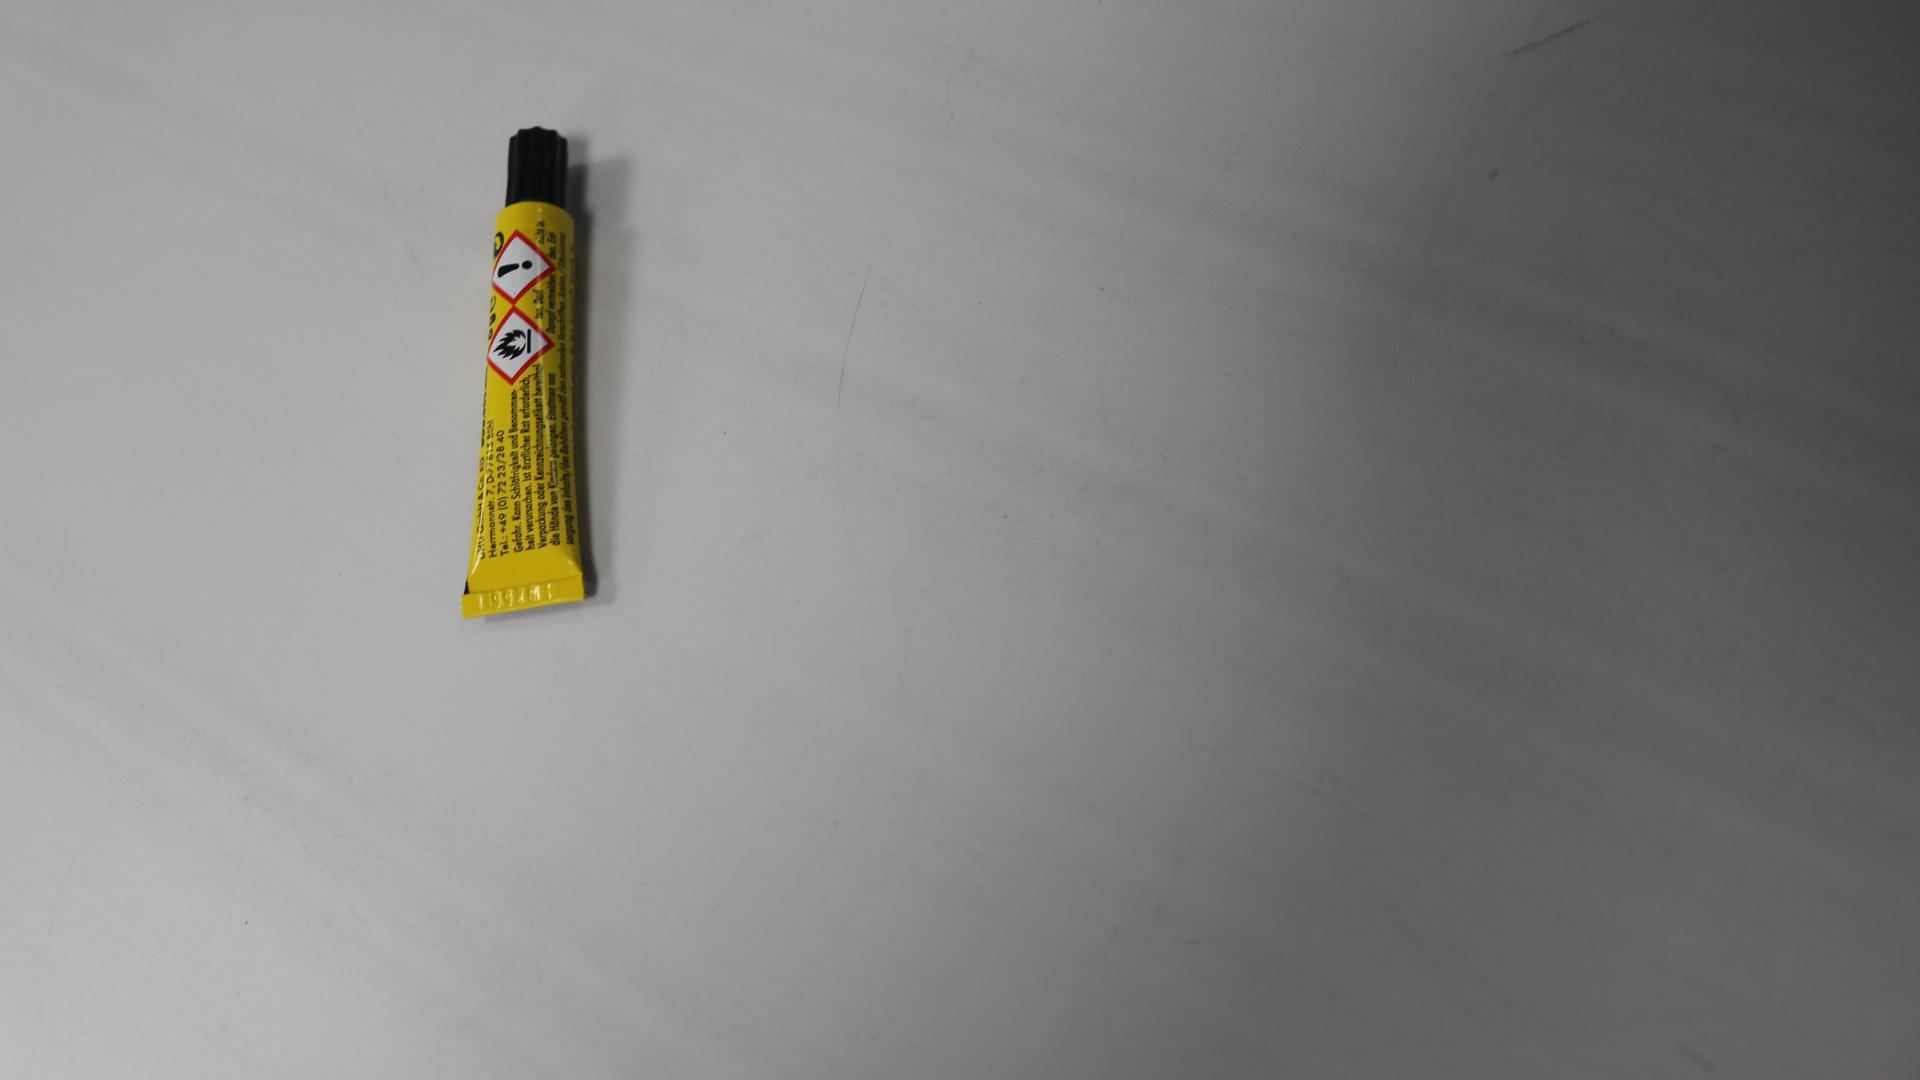Head: (529, 162, 541, 176)
Tail: (513, 591, 532, 606)
Tube: (460, 127, 589, 617)
